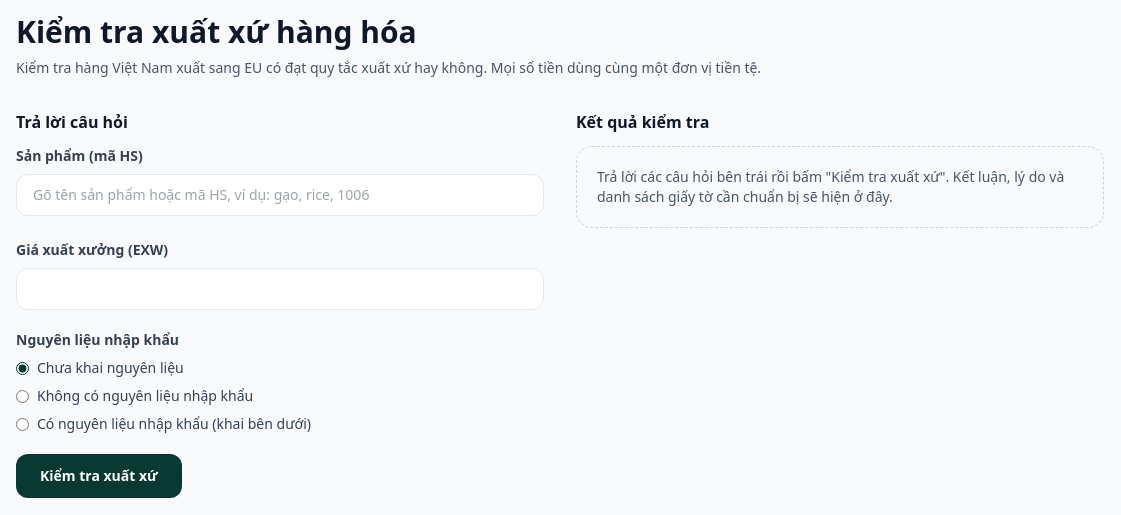
Máy tính quy tắc xuất xứ (C4) › chưa khai nguyên liệu: gửi materials_declared=false, không có danh sách
Type "ca phe" into the dropdown labelled "Sản phẩm (mã HS)" at (280, 195), box [16, 174, 544, 216]
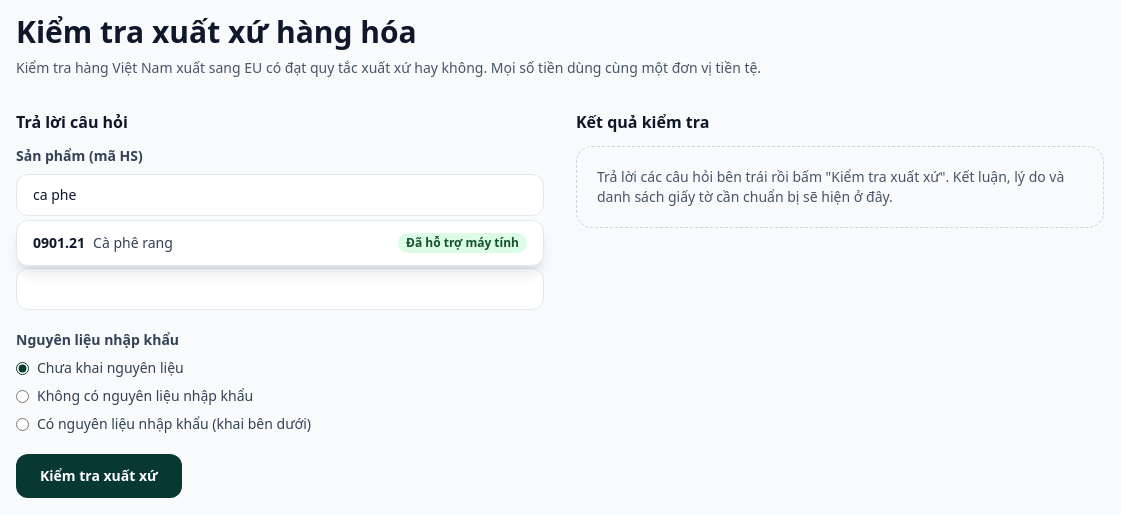
Click the option "0901.21Cà phê rang Đã hỗ trợ máy tính" at (59, 242), box [33, 233, 527, 253]
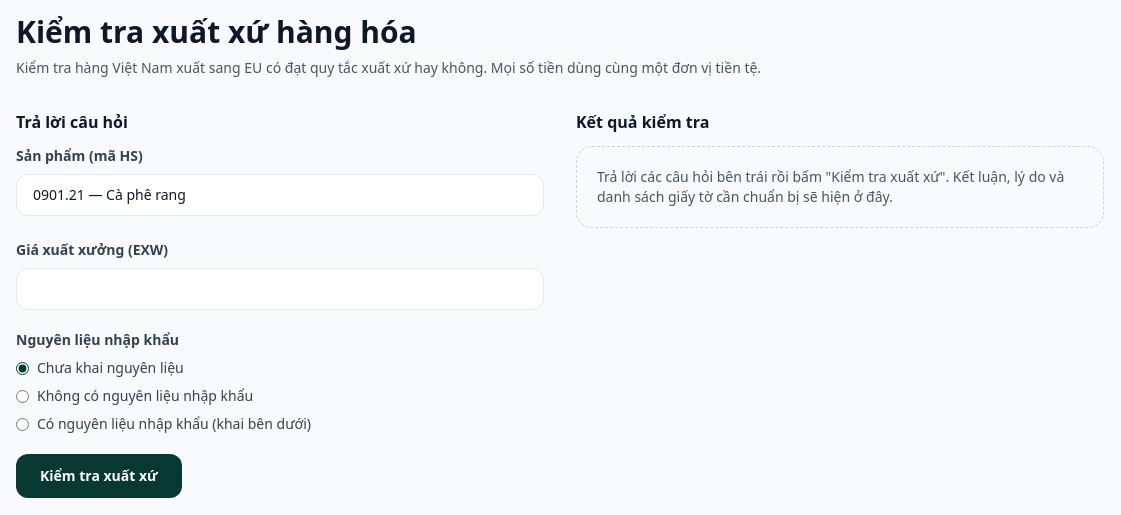
Type "1000" into the field labelled "Giá xuất xưởng (EXW)" at (280, 289), box [16, 268, 544, 310]
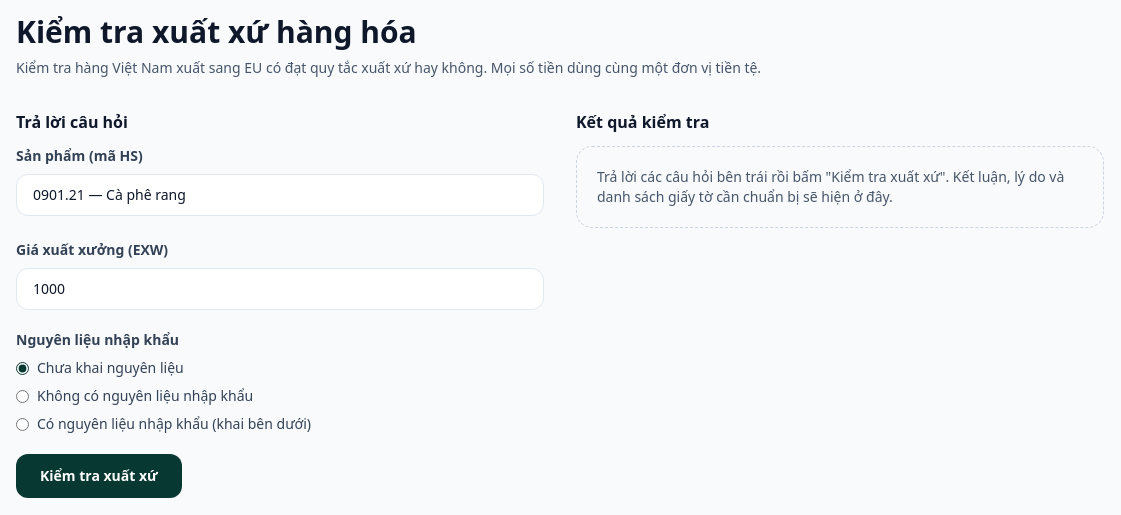
Click the button "Kiểm tra xuất xứ" at (99, 476), box [16, 454, 182, 498]
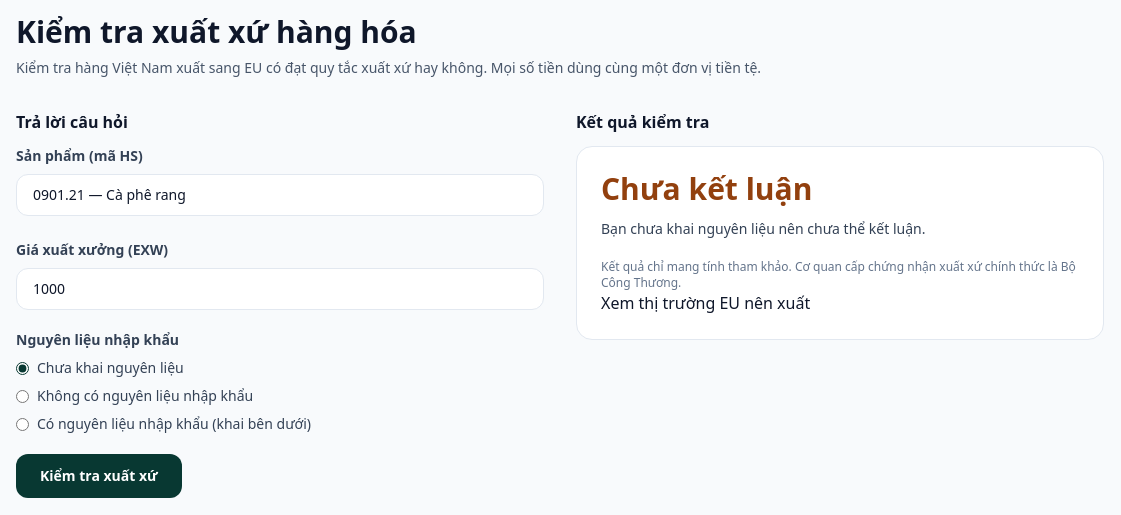
Expected: the element "Kết quả" is shown, [576, 146, 1104, 340]
